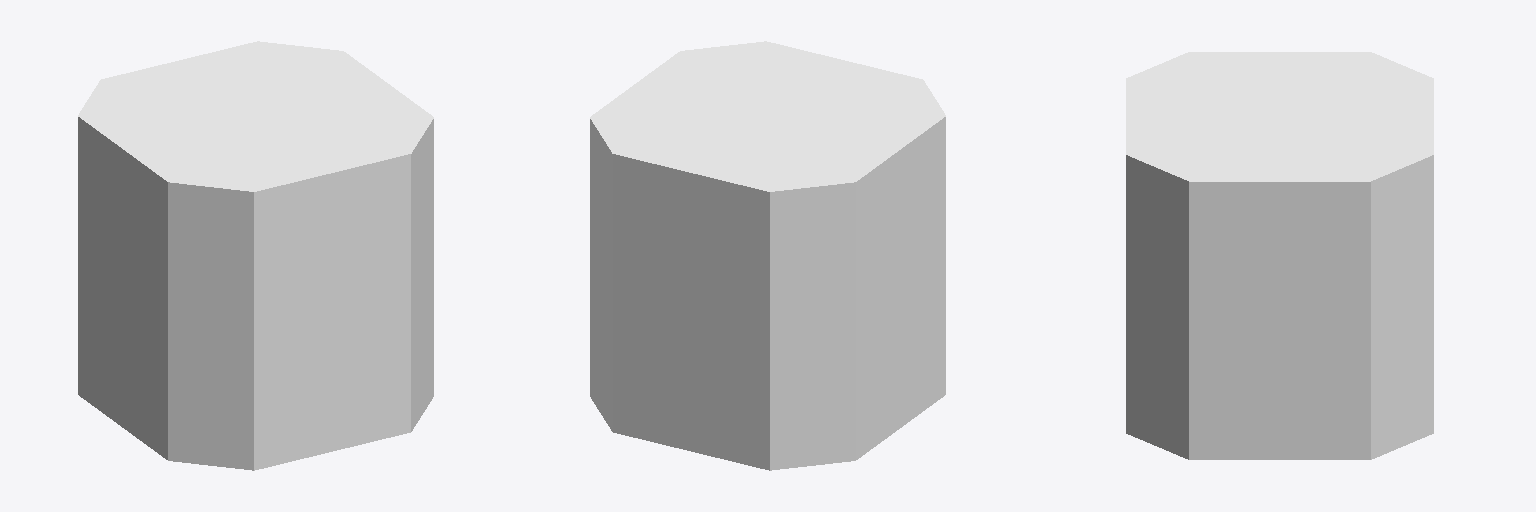
The model's file is smallWall.obj.
3 views of the same model, side by side, from view 1: azimuth 30°, elevation 25°; view 2: azimuth 150°, elevation 25°; view 3: azimuth 270°, elevation 25° (orthographic).
Visible parts, largest first — view 1: Cube; view 2: Cube; view 3: Cube.
Part boxes in pixels (bbox=[...]): Cube: bbox=[78, 41, 433, 470]; Cube: bbox=[590, 41, 945, 470]; Cube: bbox=[1126, 52, 1433, 459].
Bounding box in the file's own units: 2 × 2 × 2.